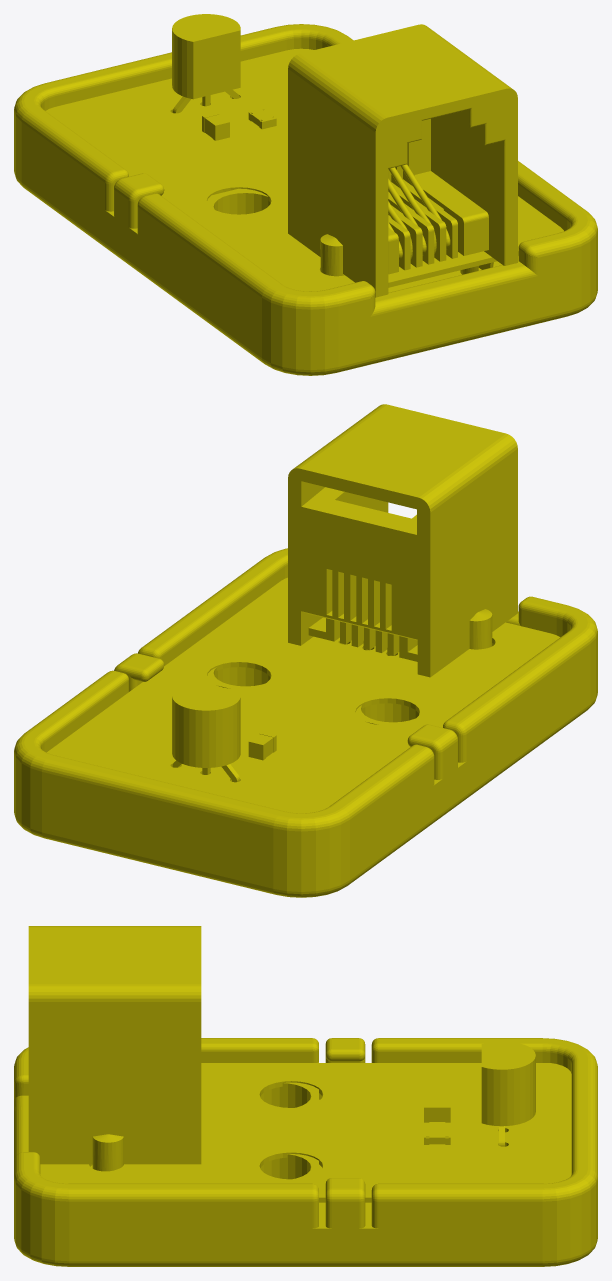
The model's file is Temp_Sensor.glb.
3 views of the same model, one above another, from view 1: azimuth 30°, elevation 25°; view 2: azimuth 150°, elevation 25°; view 3: azimuth 270°, elevation 25° (orthographic).
Visible parts, largest first — view 1: defaultobject; view 2: defaultobject; view 3: defaultobject.
Part boxes in pixels (bbox=[...]): defaultobject: bbox=[14, 14, 597, 375]; defaultobject: bbox=[14, 404, 597, 897]; defaultobject: bbox=[14, 926, 597, 1266].
Size of the model in its own units: 69.74 by 48.51 by 109.
